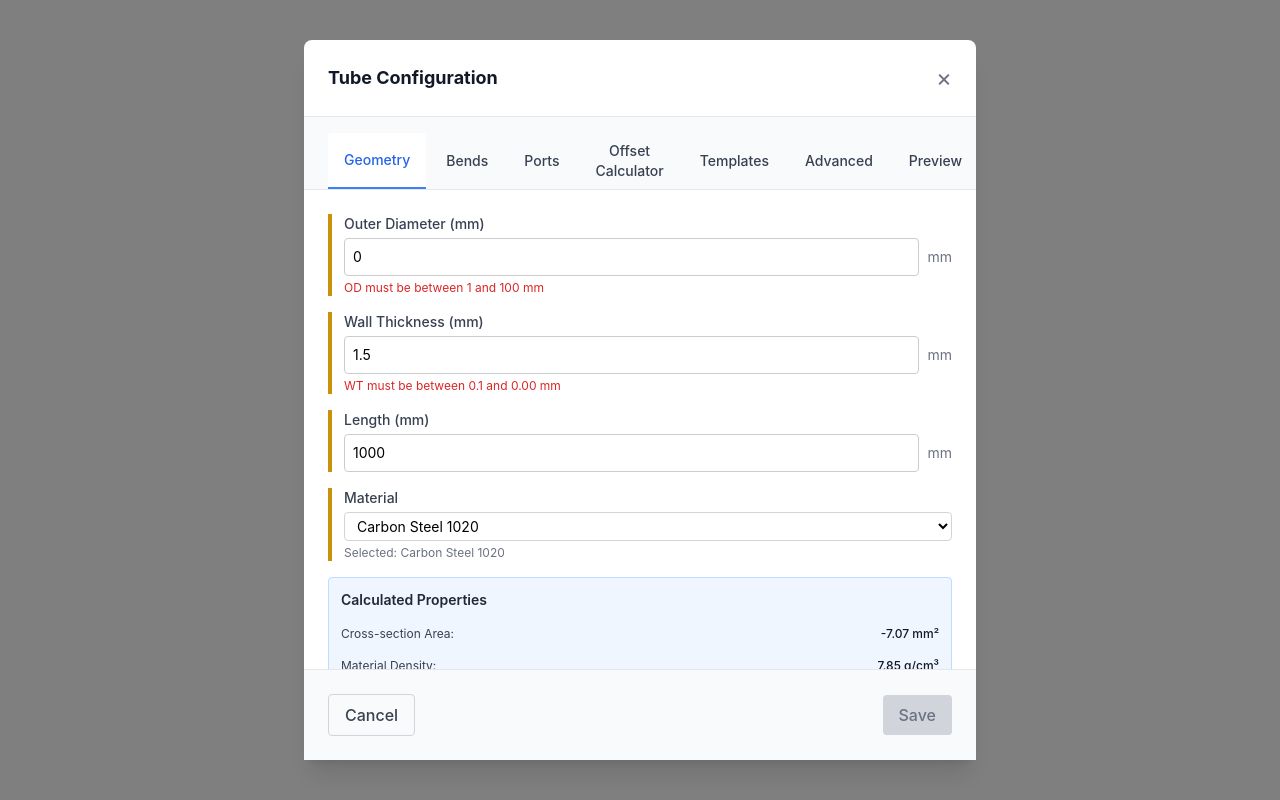
Test: TubeDialog › Tab Navigation › should switch to Preview tab
What coordinates should you click on to do the following:
click the tab "Preview"
I would click on:
 (935, 161)
Its box is 893,133 -> 978,189.
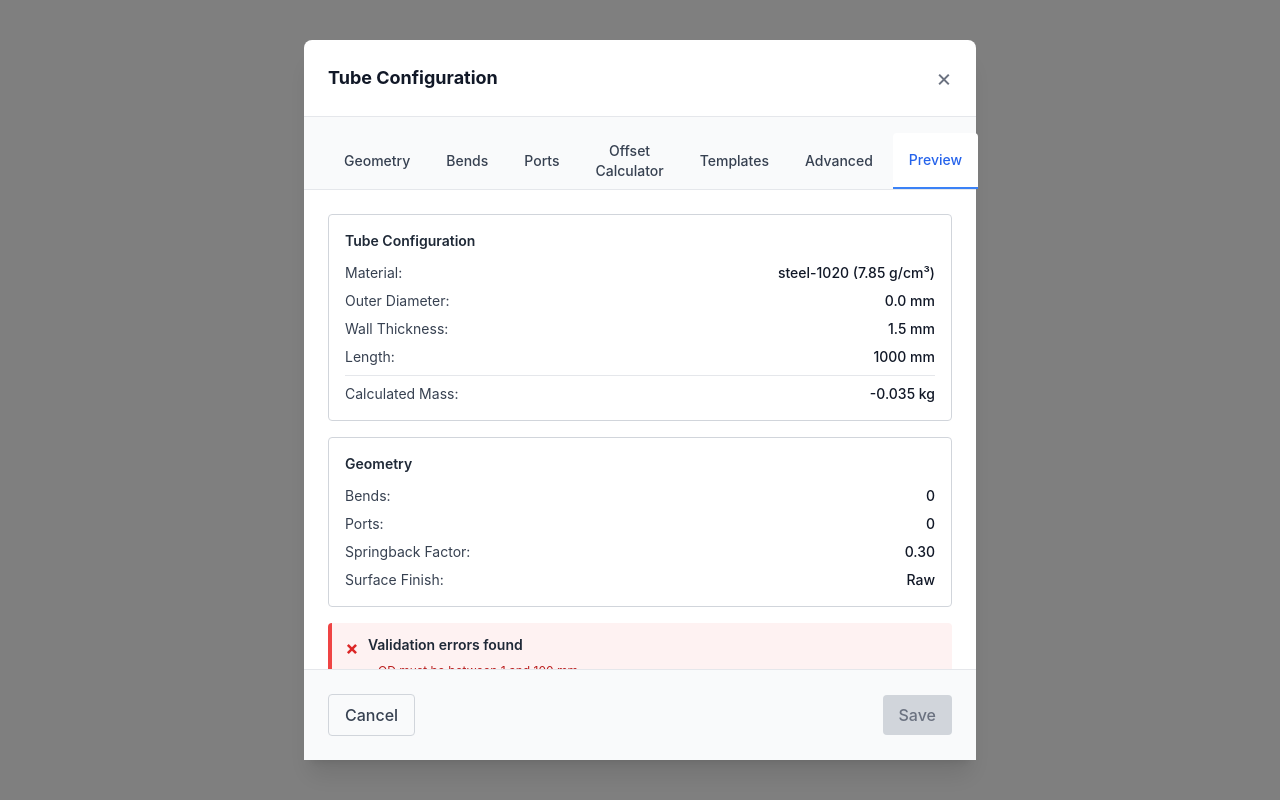
Result: the text "Calculated Mass:" is shown at 345,384 -> 458,404
